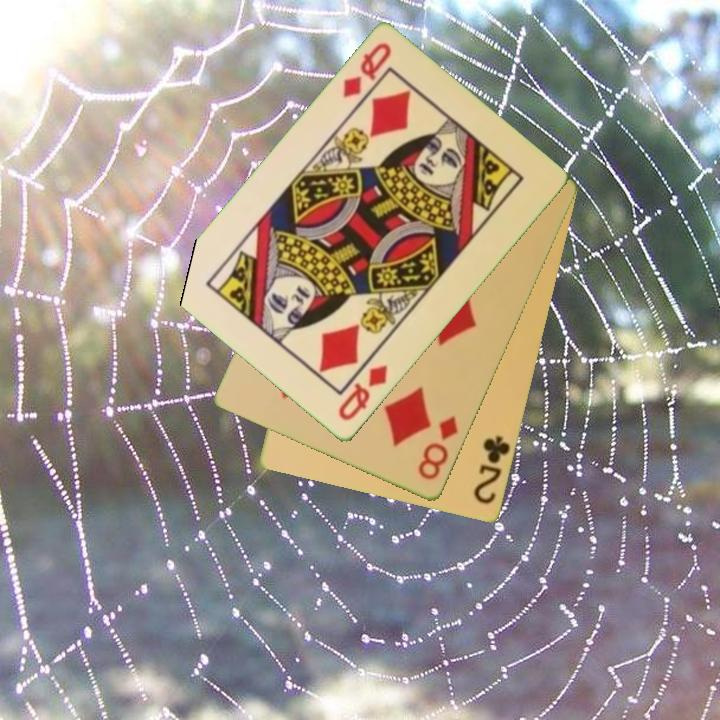2c: (470, 432, 514, 508)
8d: (414, 413, 461, 484)
Qd: (334, 361, 391, 425), (339, 39, 395, 102)
